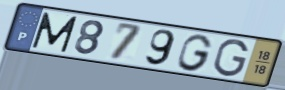7: (108, 21, 146, 62)
8: (73, 19, 105, 56)
9: (143, 28, 177, 68)
G: (176, 33, 215, 73), (211, 38, 250, 78)
M: (30, 11, 80, 54)
